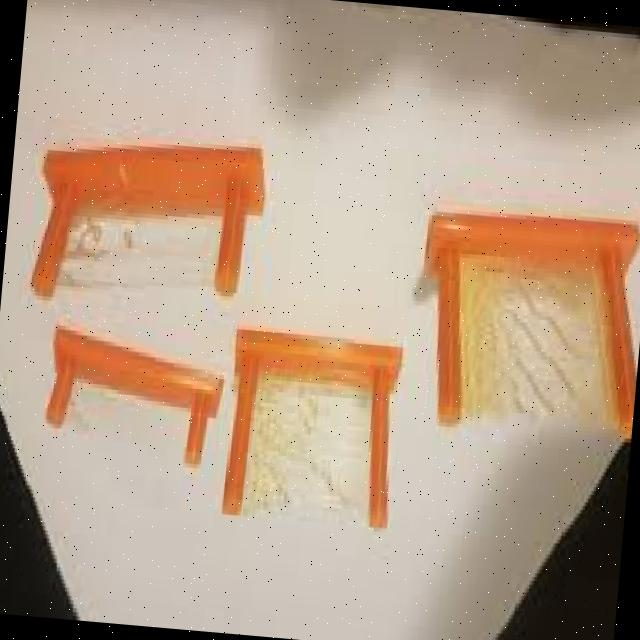stringing: (456, 269, 551, 406), (251, 379, 344, 512)
